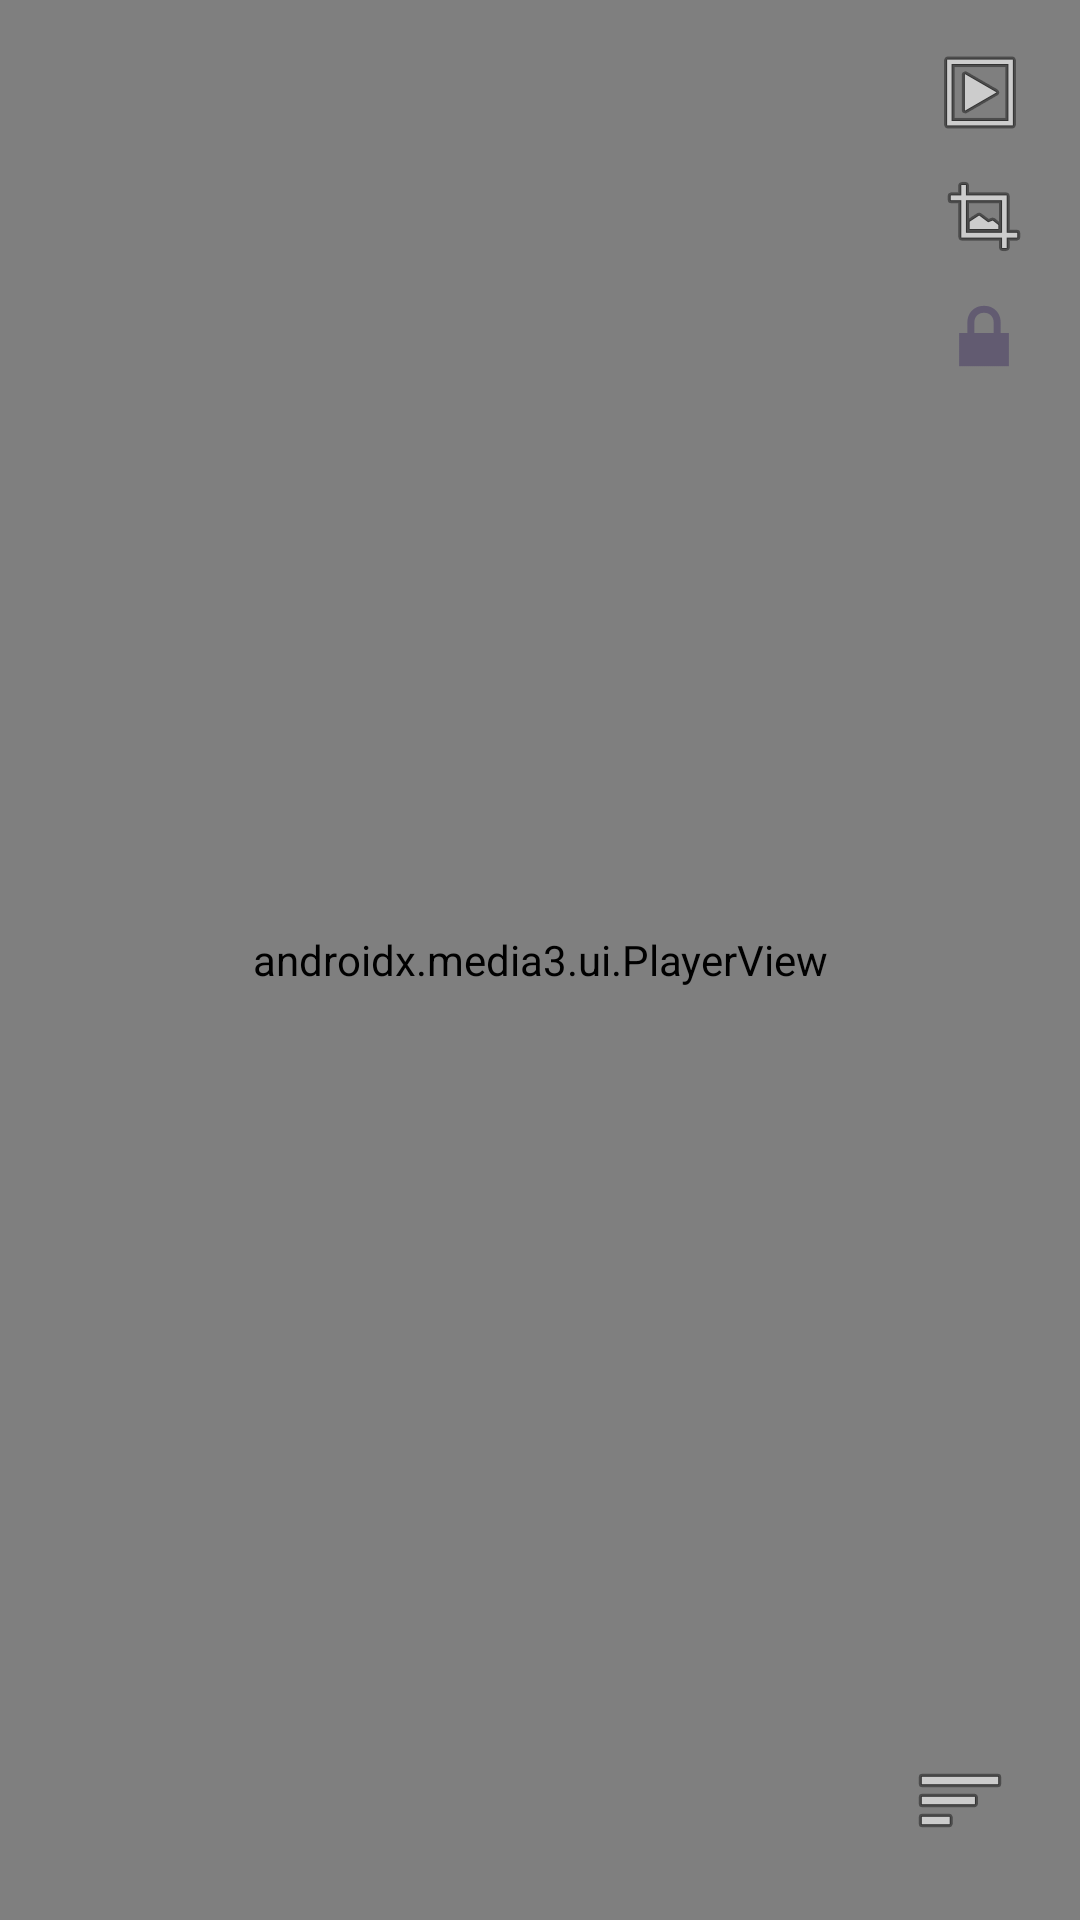

Screen size 1080x1920. Icon name, then its box in pixels as (x1, y1, x2, y2):
Aspect ratio: (948, 182, 1020, 251)
Orientation lock: (959, 306, 1009, 366)
Queue: (919, 1774, 1001, 1827)
